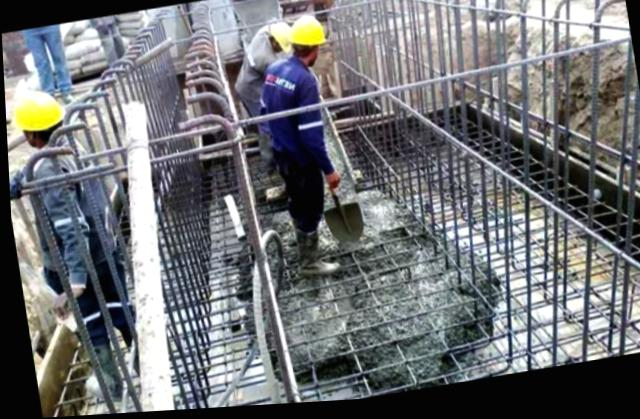helmet: (7, 84, 74, 136), (282, 17, 328, 50), (266, 21, 290, 53)
